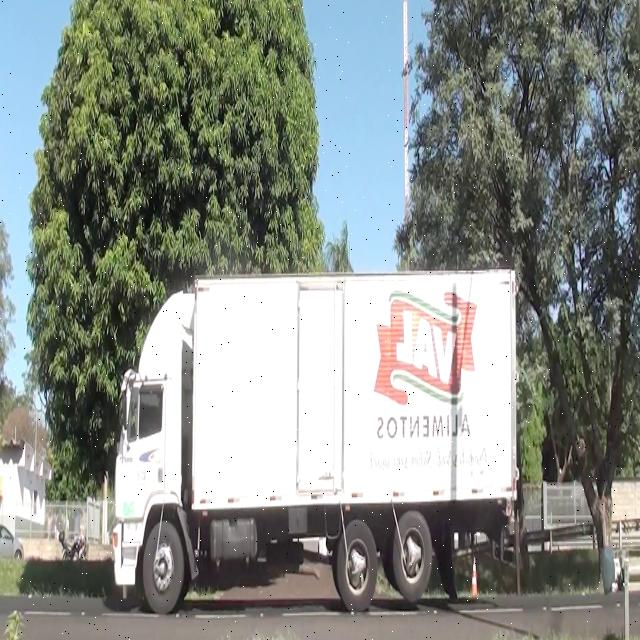-axle: (142, 516, 182, 617), (335, 520, 376, 614), (392, 511, 432, 598)
